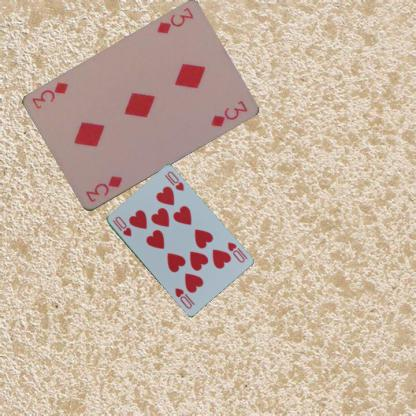10h: (110, 214, 132, 237), (224, 240, 245, 264)
3d: (153, 5, 195, 36), (82, 174, 124, 204)
